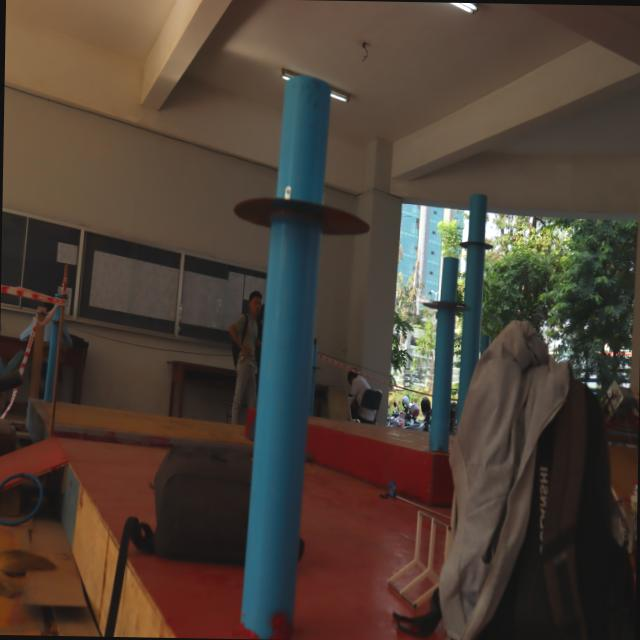pole: (235, 73, 378, 359), (458, 180, 498, 286), (429, 251, 465, 356)
